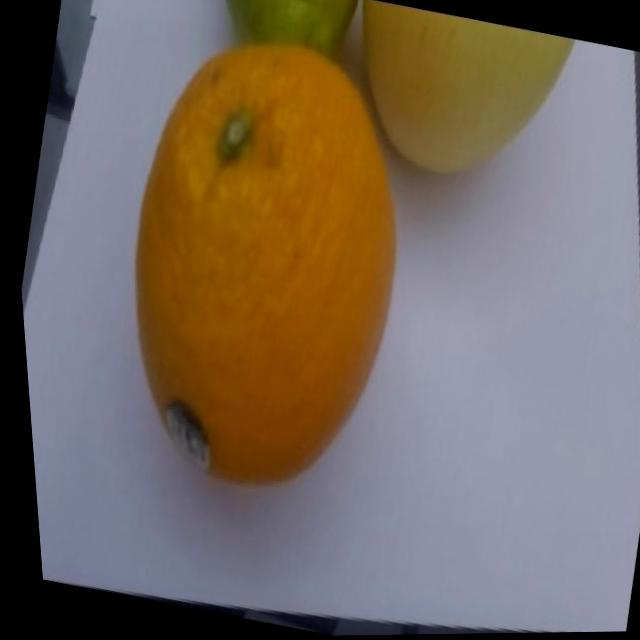Orange: (70, 13, 455, 522)
